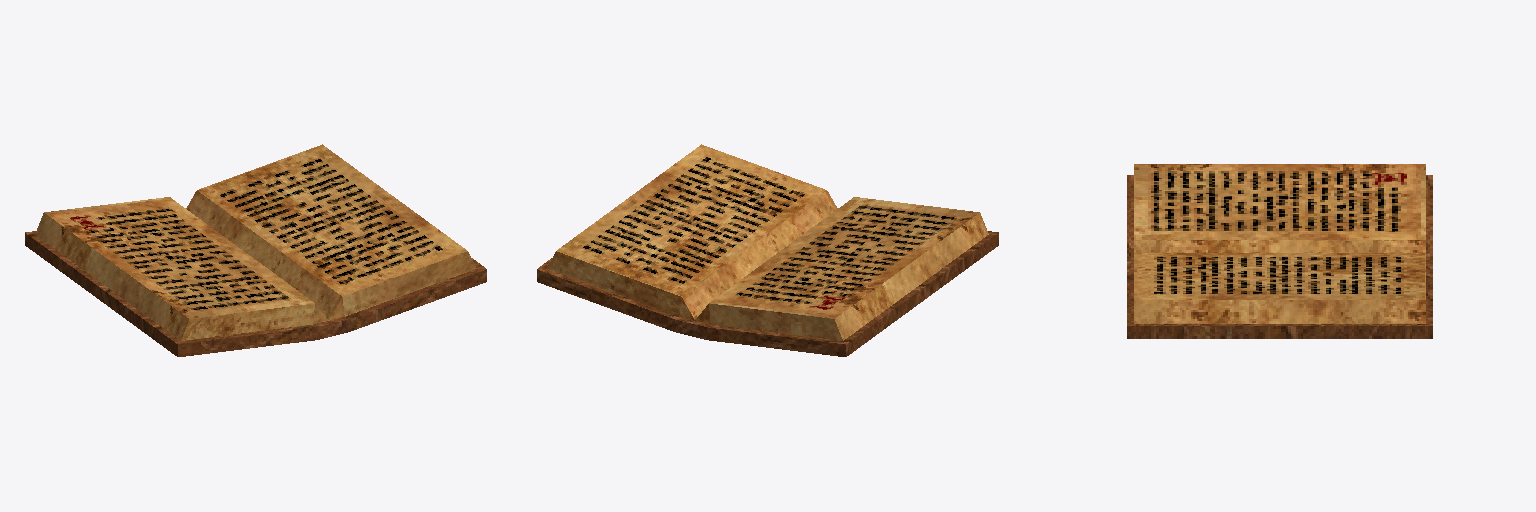
3 renders of one model, left to right at view 1: azimuth 30°, elevation 25°; view 2: azimuth 150°, elevation 25°; view 3: azimuth 270°, elevation 25°, orthographic.
Visible parts, largest first — view 1: Mesh1 Model; view 2: Mesh1 Model; view 3: Mesh1 Model.
Part boxes in pixels (x1,y1,x2,y2): Mesh1 Model: (25, 144, 486, 356); Mesh1 Model: (537, 144, 998, 356); Mesh1 Model: (1127, 164, 1432, 338).
Bounding box in the file's own units: 2340 × 351 × 2008.
3 materials, 3 textured.